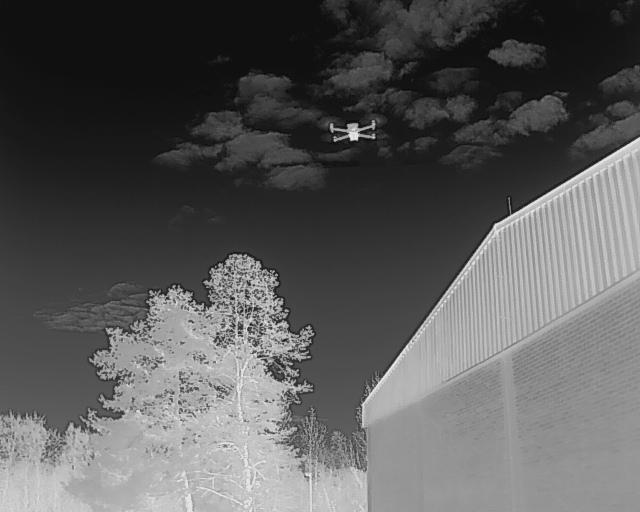drone: (312, 112, 388, 153)
